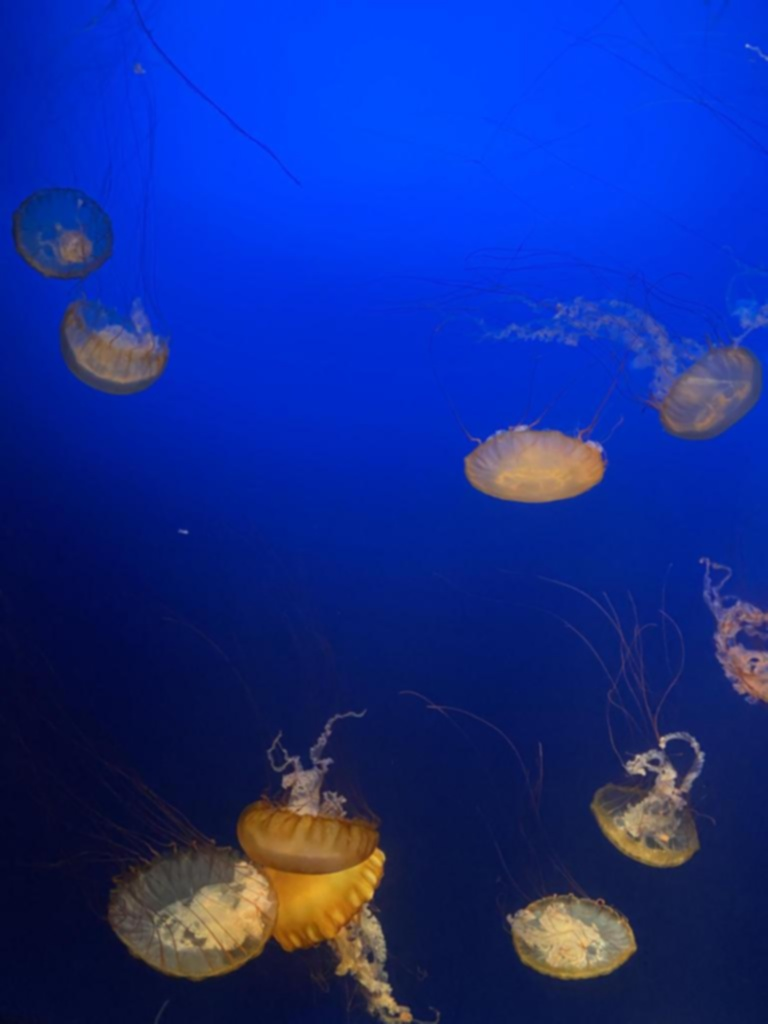jellyfish: (97, 834, 271, 978), (584, 766, 708, 880), (259, 844, 385, 946), (502, 893, 636, 987), (632, 338, 752, 442), (3, 186, 122, 280), (463, 426, 605, 504), (58, 296, 164, 396), (245, 796, 375, 868)
